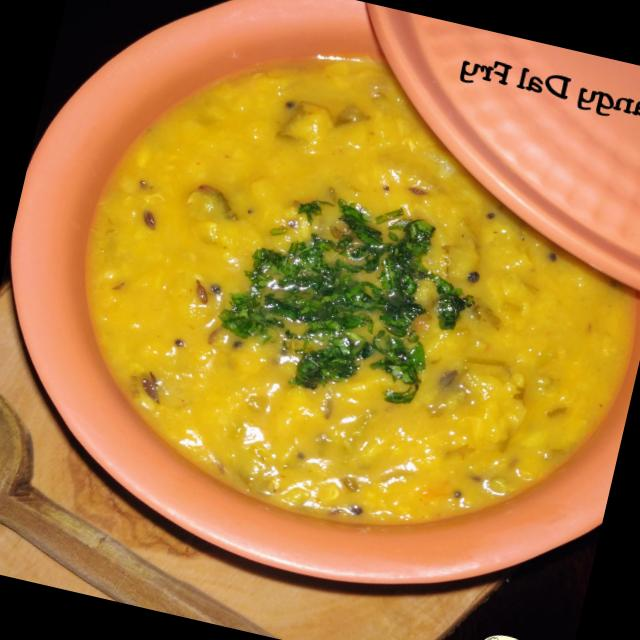dal: (4, 0, 640, 595)
